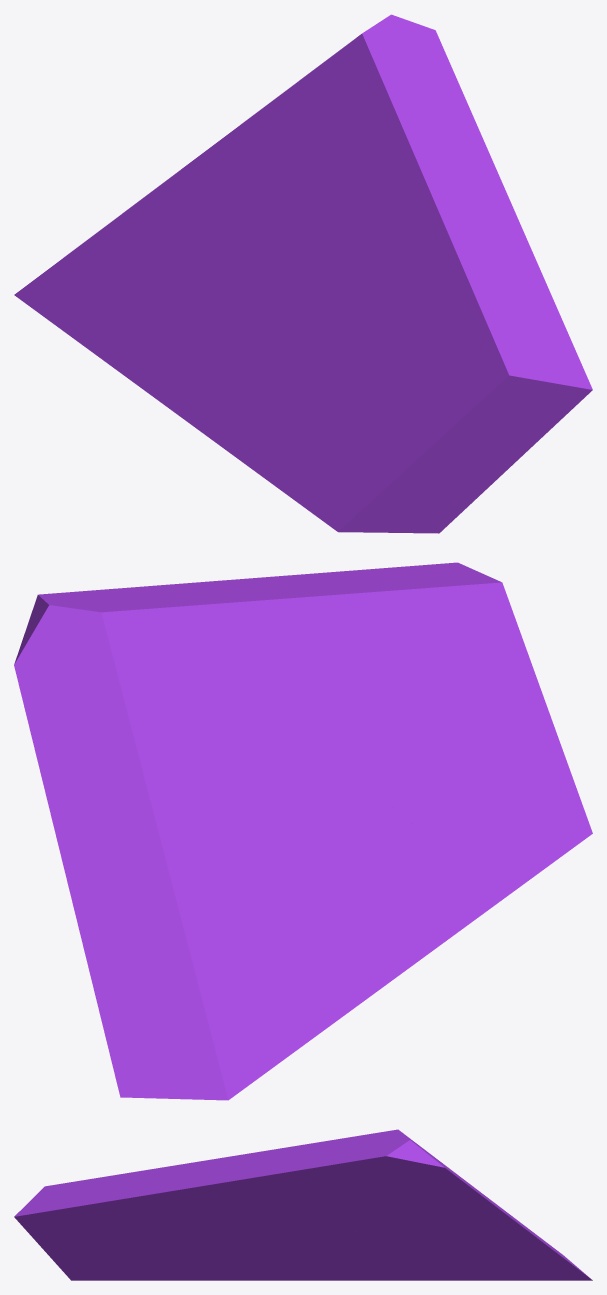
File: Window_117_1_chunks.fbx
3 views of the same model, one above another, from view 1: azimuth 30°, elevation 25°; view 2: azimuth 150°, elevation 25°; view 3: azimuth 270°, elevation 25° (orthographic). The views are drawn at different scales.
Parts seen in each view (by area): view 1: Window_117_1_1, Window_117_1_2, Window_117_1_6, Window_117_1_3, Window_117_1_4, Window_117_1_5, Window_117_1_0; view 2: Window_117_1_1, Window_117_1_6, Window_117_1_2, Window_117_1_3, Window_117_1_0, Window_117_1_4, Window_117_1_5; view 3: Window_117_1_1, Window_117_1_0, Window_117_1_6, Window_117_1_4, Window_117_1_2, Window_117_1_5, Window_117_1_3.
Part boxes in pixels (x1,y1,x2,y2): Window_117_1_1: (256, 175, 592, 533); Window_117_1_2: (270, 20, 498, 257); Window_117_1_6: (14, 142, 229, 375); Window_117_1_3: (191, 199, 327, 463); Window_117_1_4: (125, 307, 258, 471); Window_117_1_5: (218, 124, 295, 224); Window_117_1_0: (241, 14, 478, 149); Window_117_1_1: (207, 562, 592, 900); Window_117_1_6: (71, 815, 352, 1100); Window_117_1_2: (64, 581, 313, 758); Window_117_1_3: (241, 738, 492, 908); Window_117_1_0: (14, 585, 181, 896); Window_117_1_4: (310, 895, 500, 1008); Window_117_1_5: (105, 750, 241, 844); Window_117_1_1: (14, 1157, 302, 1280); Window_117_1_0: (260, 1137, 523, 1232); Window_117_1_6: (413, 1183, 592, 1280); Window_117_1_4: (255, 1240, 432, 1280); Window_117_1_2: (225, 1129, 425, 1192); Window_117_1_5: (307, 1176, 487, 1251); Window_117_1_3: (289, 1232, 326, 1246).
Size of the model in its own units: 400 by 382 by 968.
